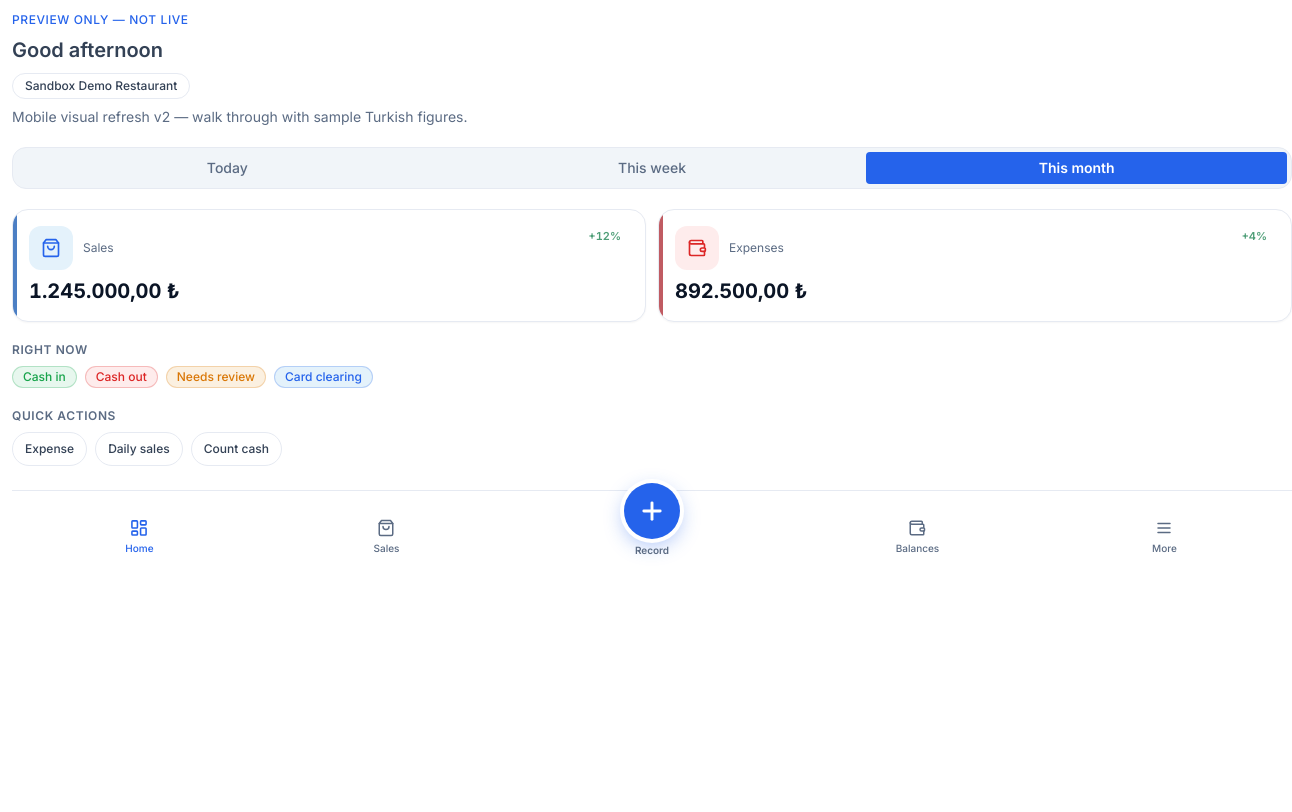
it: interactive preview tabs and drill-in › record chip tap shows preview-only hint
Click the button "Record" at {"x": 652, "y": 534}, box [510,503,794,564]
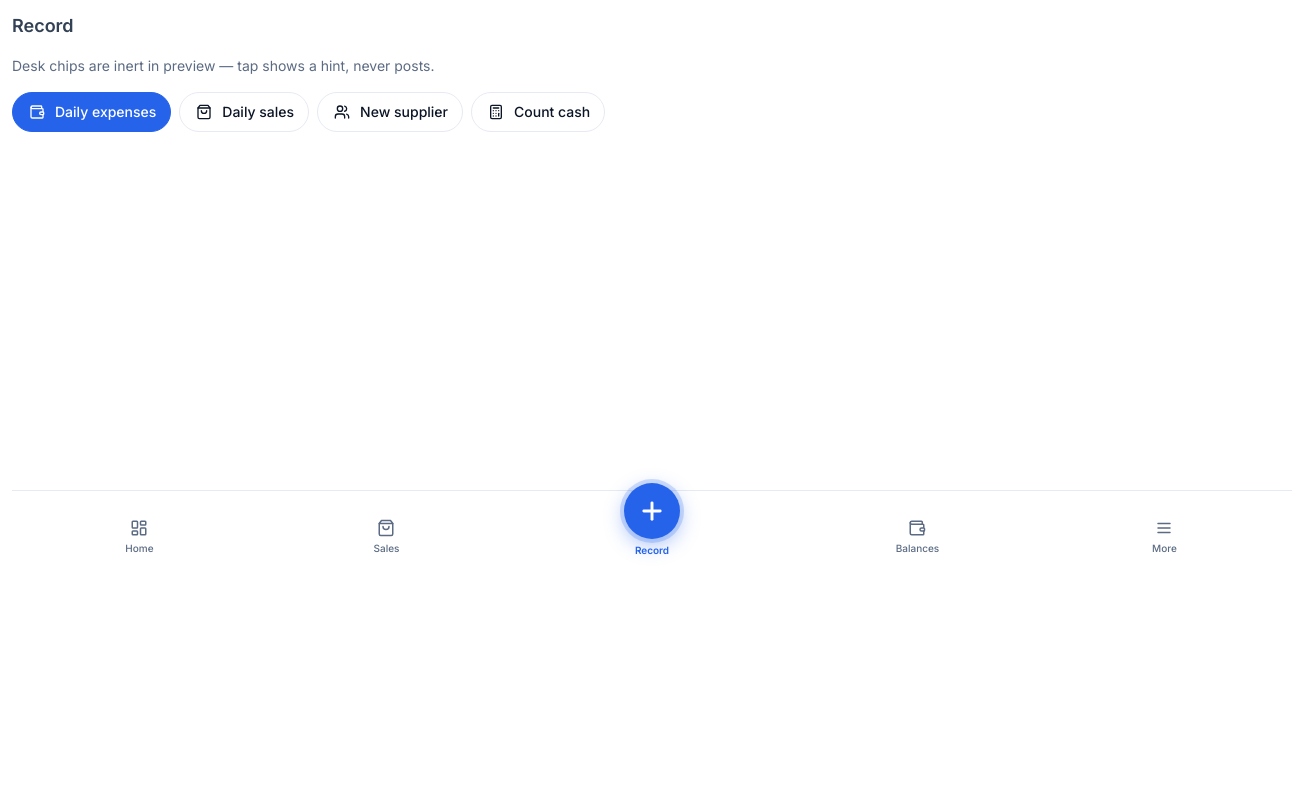
Click the tab "Daily expenses" at {"x": 92, "y": 112}, box [12,92,171,132]
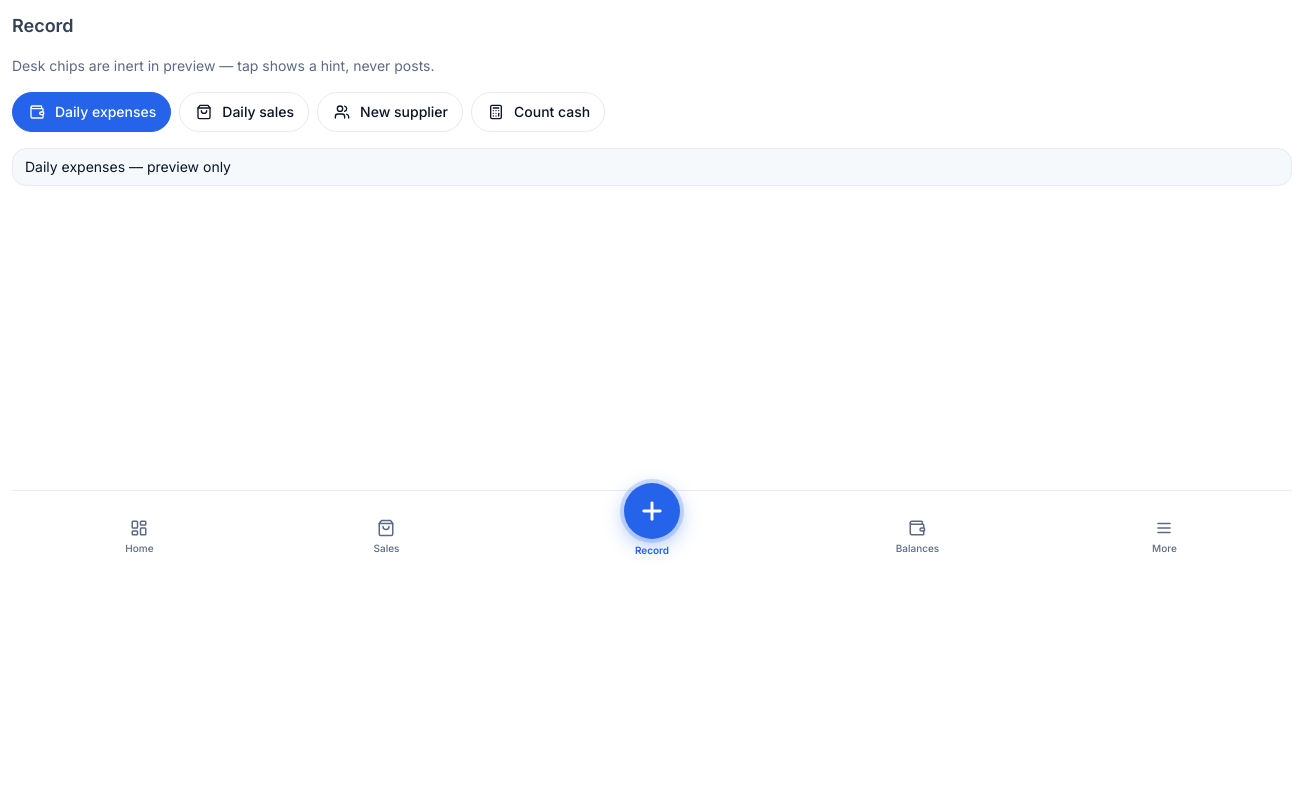
Result: the message shows "preview only" at [25,158,231,175]
